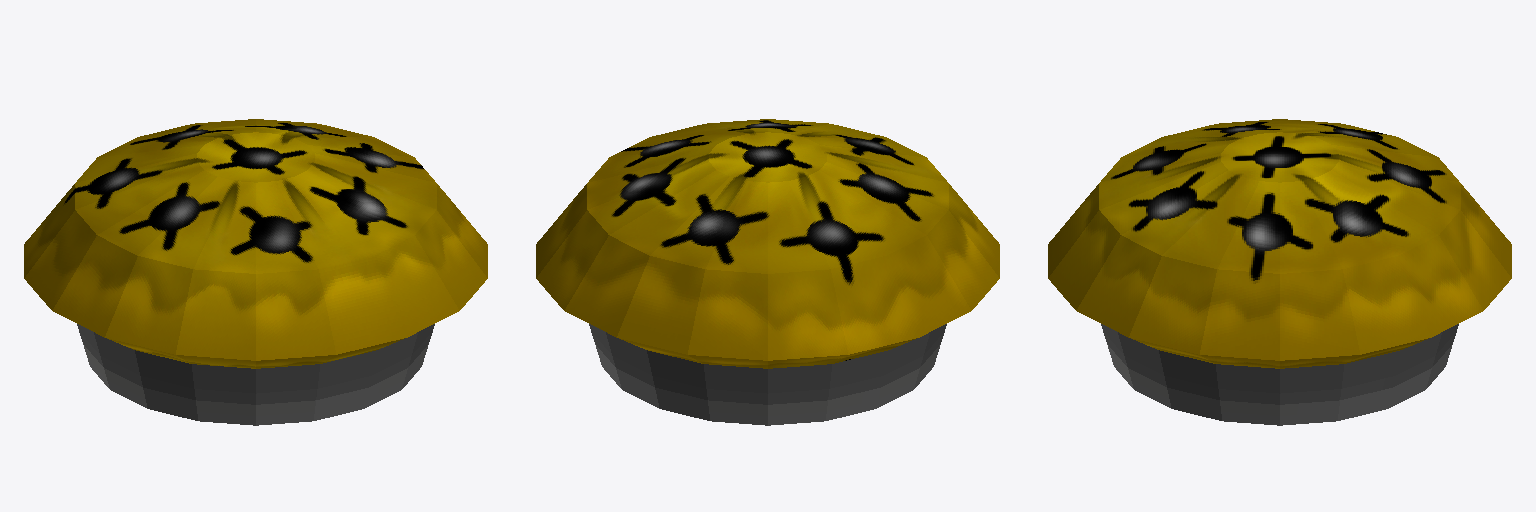
The picture shows the model from 3 angles: view 1: azimuth 30°, elevation 25°; view 2: azimuth 150°, elevation 25°; view 3: azimuth 270°, elevation 25°; orthographic projection.
Visible parts, largest first — view 1: (unnamed)_0; view 2: (unnamed)_0; view 3: (unnamed)_0.
Boxes of the visible parts, <box> form: (unnamed)_0: <box>24,119,487,425</box>; (unnamed)_0: <box>536,119,999,425</box>; (unnamed)_0: <box>1048,119,1511,425</box>.
Size of the model in its own units: 3.93 by 1.82 by 3.87.
Materials: 1 (1 with a texture image).